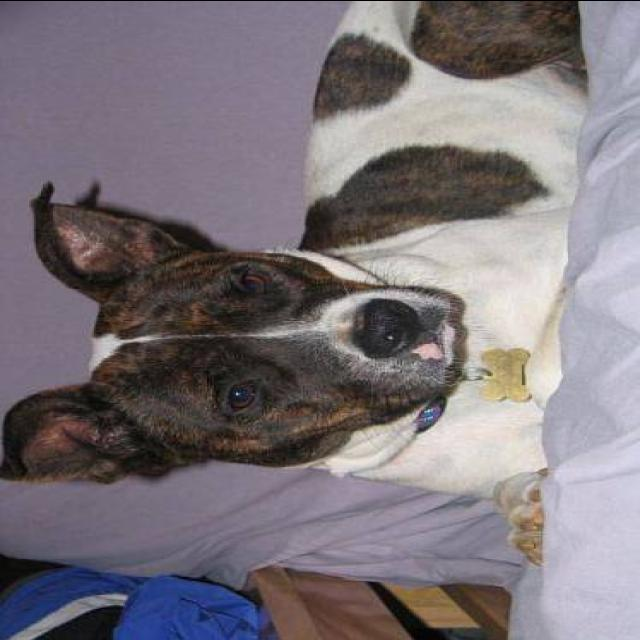dog: (0, 0, 599, 548)
